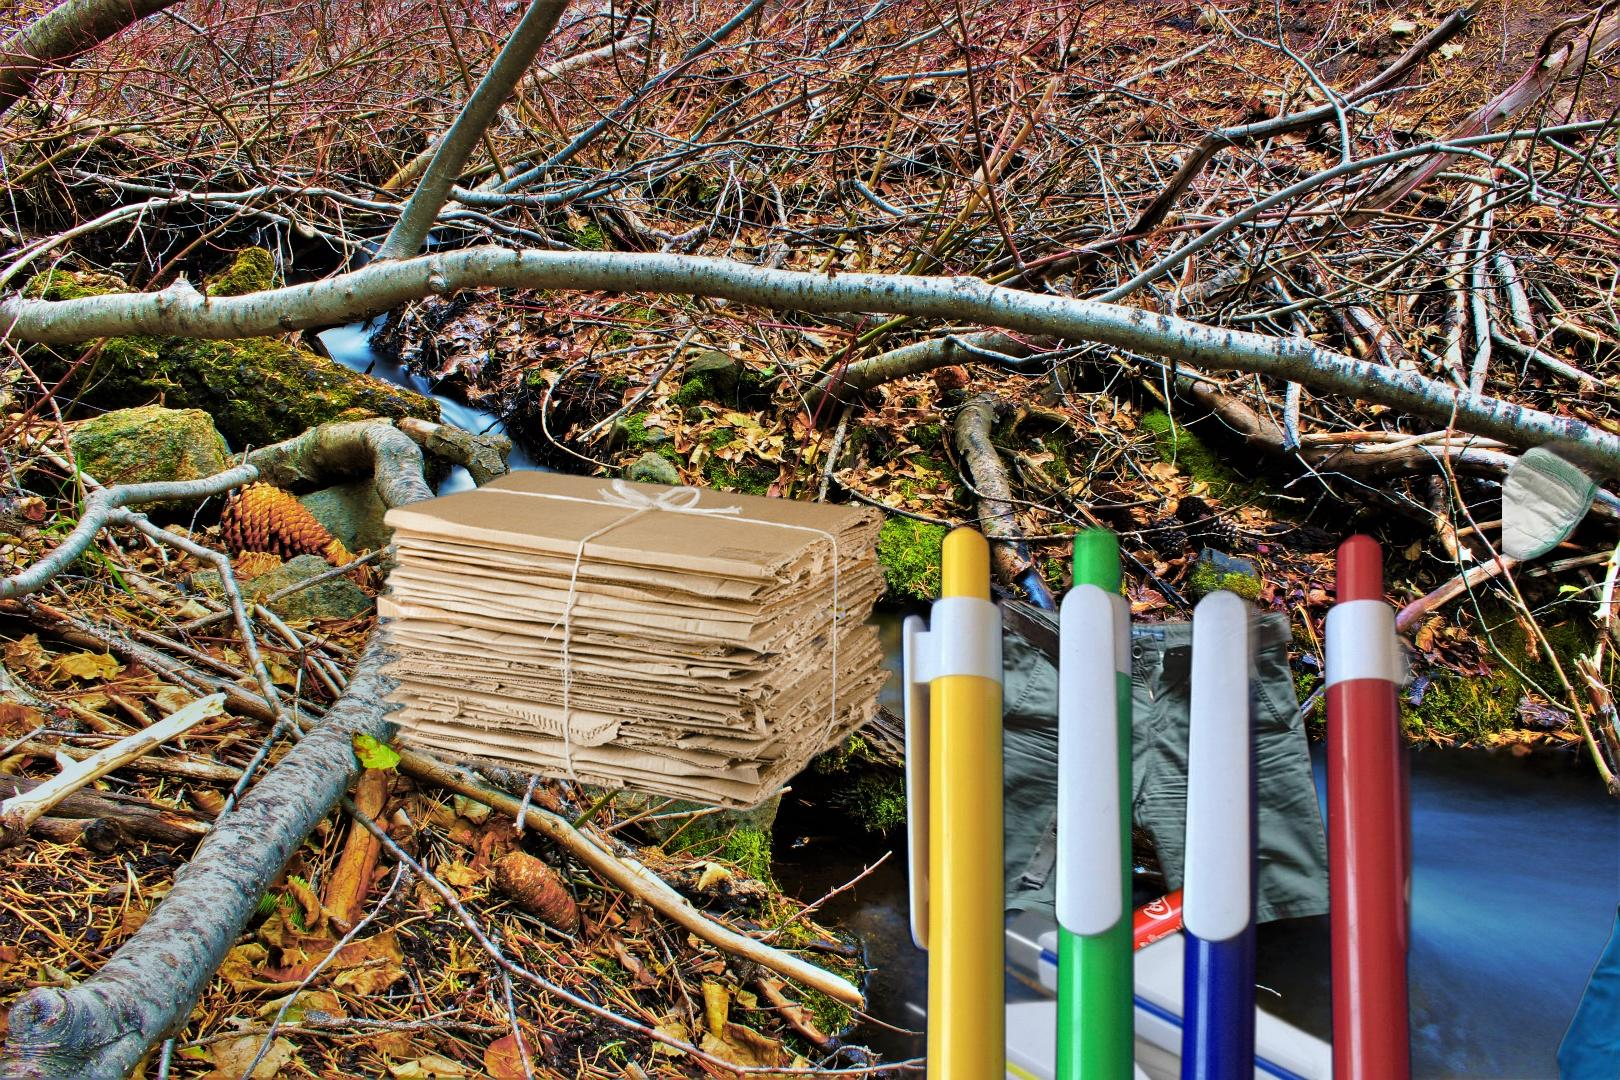battery: (1377, 1072, 1620, 1080)
clothes: (949, 591, 1339, 947), (1554, 853, 1620, 1080)
metal-cans: (896, 587, 1217, 1080)
penholder: (896, 512, 1428, 1080), (645, 780, 1620, 1080)
trash: (1502, 394, 1620, 577)
trashbox-cardboard: (369, 465, 899, 818)
